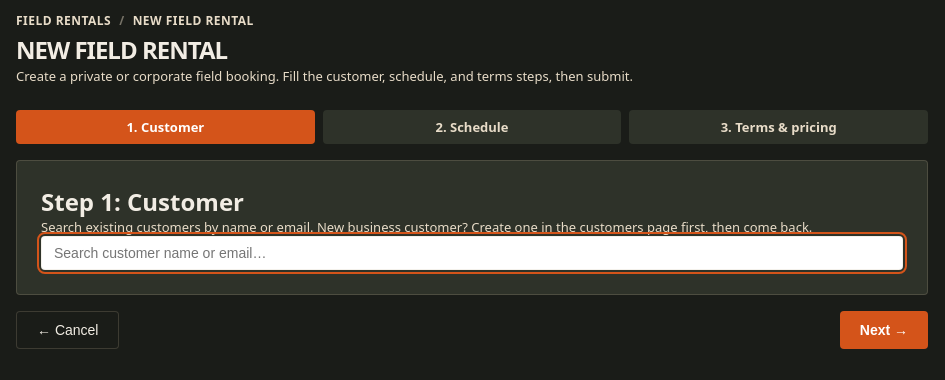
AdminFieldRentalNew › selecting a customer shows the selected box, and Change resets it
The width and height of the screenshot is (945, 380).
Type "Ac" into the search field with placeholder "Search customer name or email…". click: (472, 253)
box: 41,236 -> 903,270
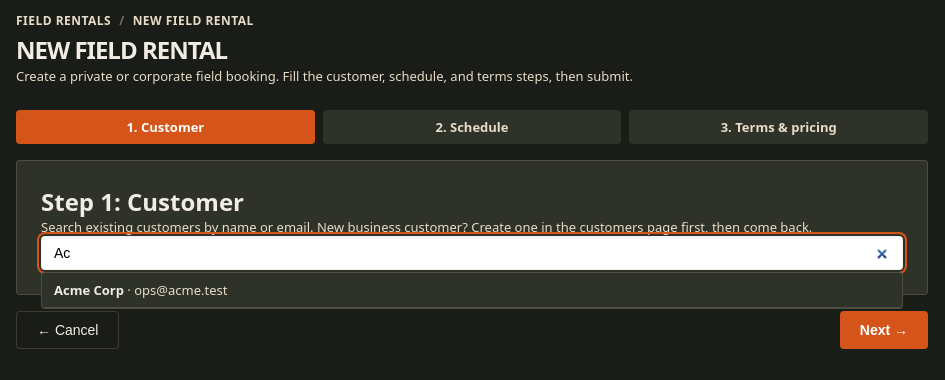
Click the text "Acme Corp". click: click(89, 290)
box: 54,281 -> 124,299
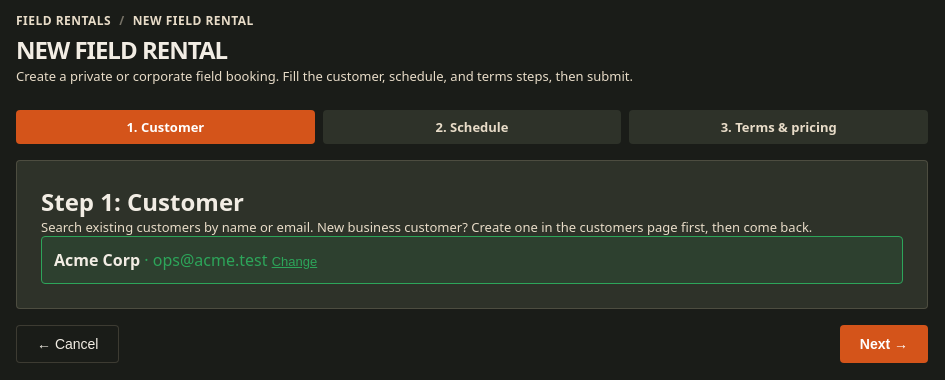
Expected: the button "Change" is shown
Click the button "Change". click: click(294, 261)
box: 272,254 -> 317,269
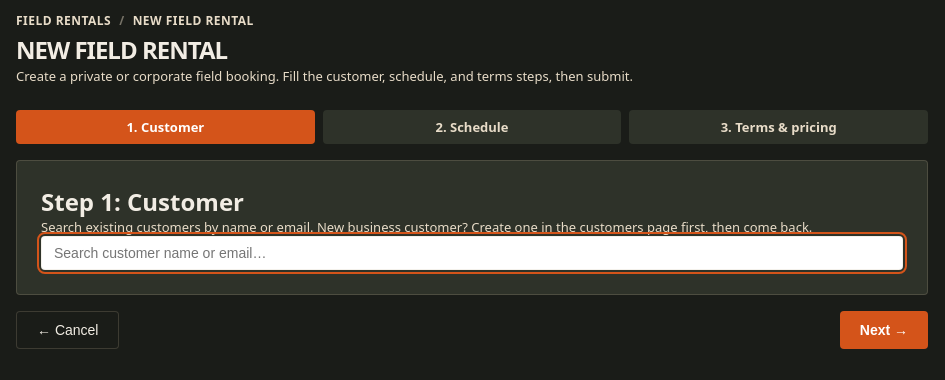
Expected: the search field with placeholder "Search customer name or email…" is shown, 41,236 -> 903,270
